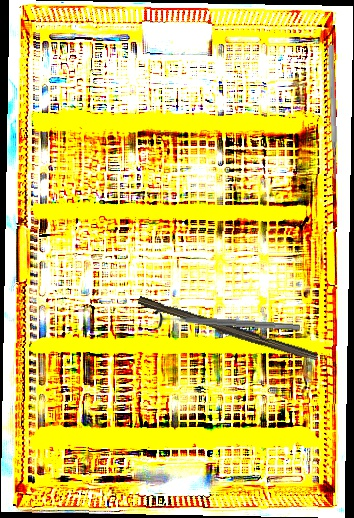Fixation Ring: (152, 308, 301, 339)
Pusher: (326, 44, 340, 180)
Scalpel Handle: (136, 295, 319, 365)
